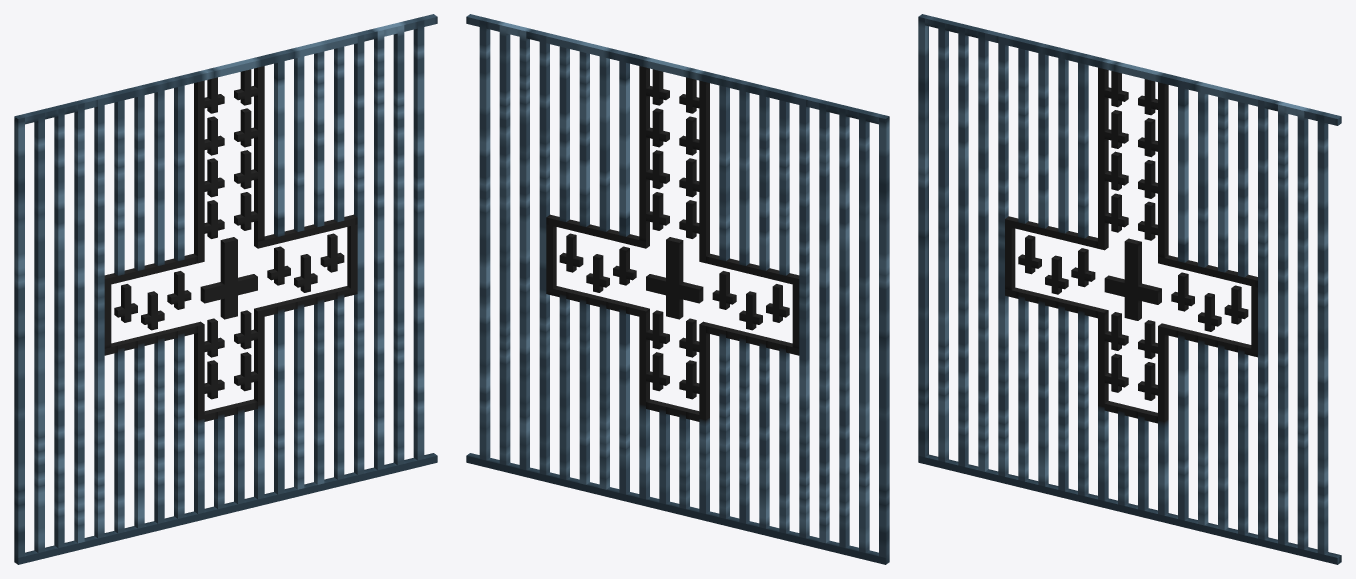
Rendered from DarkBarsLeftConector.fbx.
3 renders of one model, left to right at view 1: azimuth 30°, elevation 25°; view 2: azimuth 150°, elevation 25°; view 3: azimuth 330°, elevation 25°, orthographic.
Visible parts, largest first — view 1: Model; view 2: Model; view 3: Model.
Part boxes in pixels (x1,y1,x2,y2): Model: (14, 14, 437, 564); Model: (466, 14, 889, 564); Model: (918, 14, 1341, 564).
Size of the model in its own units: 3150 by 3200 by 50.
1 material, 1 textured.
